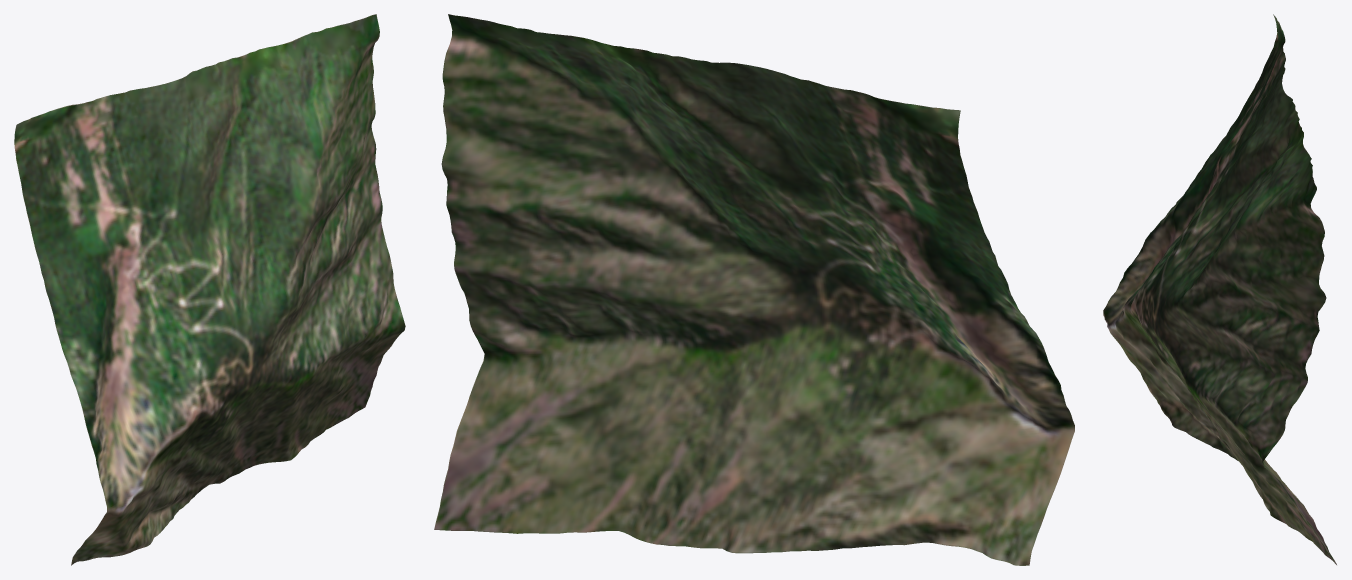
The model's file is ground_far_02_03.obj.
3 renders of one model, left to right at view 1: azimuth 30°, elevation 25°; view 2: azimuth 150°, elevation 25°; view 3: azimuth 270°, elevation 25°, orthographic. The views are drawn at different scales.
Visible parts, largest first — view 1: ground_far_02_03; view 2: ground_far_02_03; view 3: ground_far_02_03.
Boxes of the visible parts, bbox=[...] form: ground_far_02_03: bbox=[14, 14, 405, 565]; ground_far_02_03: bbox=[434, 14, 1074, 565]; ground_far_02_03: bbox=[1103, 14, 1336, 564].
Size of the model in its own units: 2000 by 2000 by 1129.
1 material, 1 textured.
